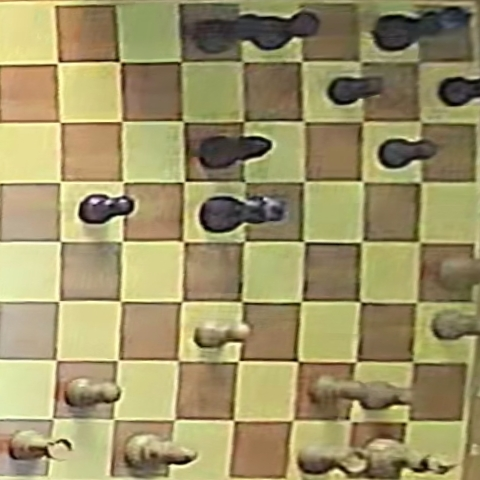black-bishop: (197, 134, 271, 168)
black-king: (372, 6, 471, 52)
black-pawn: (379, 138, 440, 169), (328, 75, 384, 105), (79, 194, 134, 224), (438, 74, 480, 107)
black-queen: (200, 195, 285, 233)
black-rook: (190, 12, 265, 54), (250, 10, 318, 50)
white-bishop: (125, 432, 196, 470)
white-king: (365, 438, 452, 476), (433, 256, 480, 289)
white-pawn: (310, 375, 369, 406), (354, 380, 410, 409), (195, 321, 254, 348), (66, 378, 120, 407), (432, 310, 479, 339)
white-rook: (299, 443, 369, 475), (10, 430, 72, 461)
